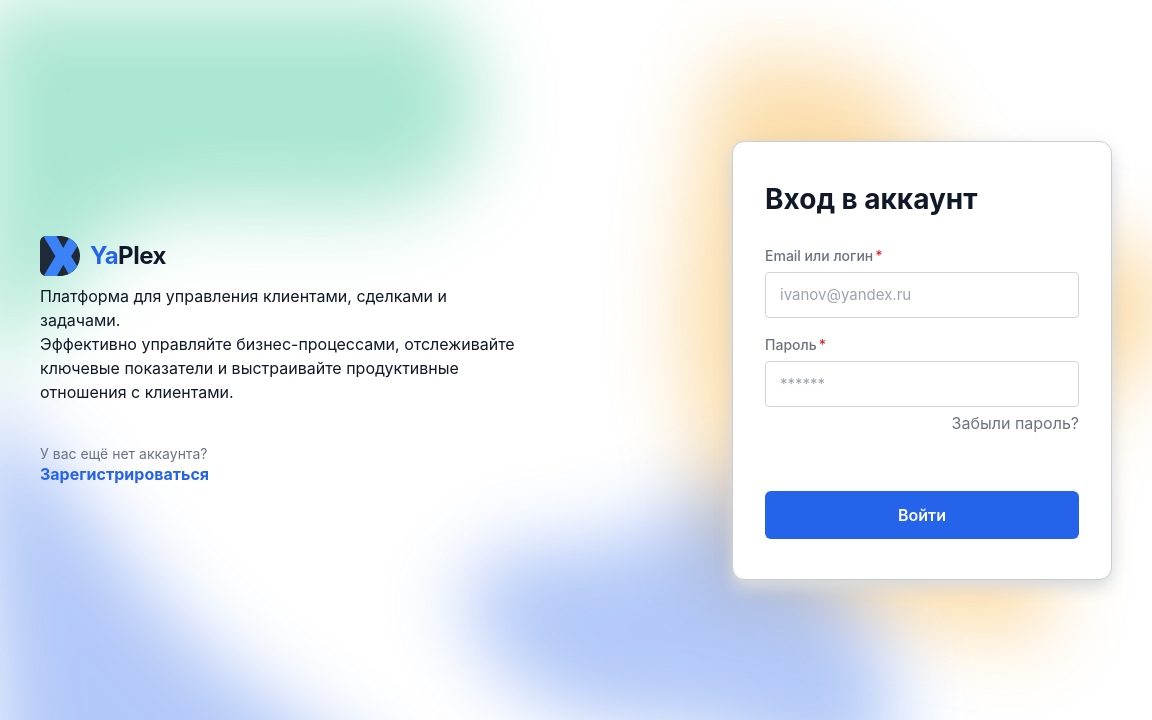
LoginPage integration › shows generic error when API returns no message
The width and height of the screenshot is (1152, 720).
Step 1. Type "test@test.com" into the field labelled "Email или логин*" → (922, 294), box left=765, top=272, right=1079, bottom=318
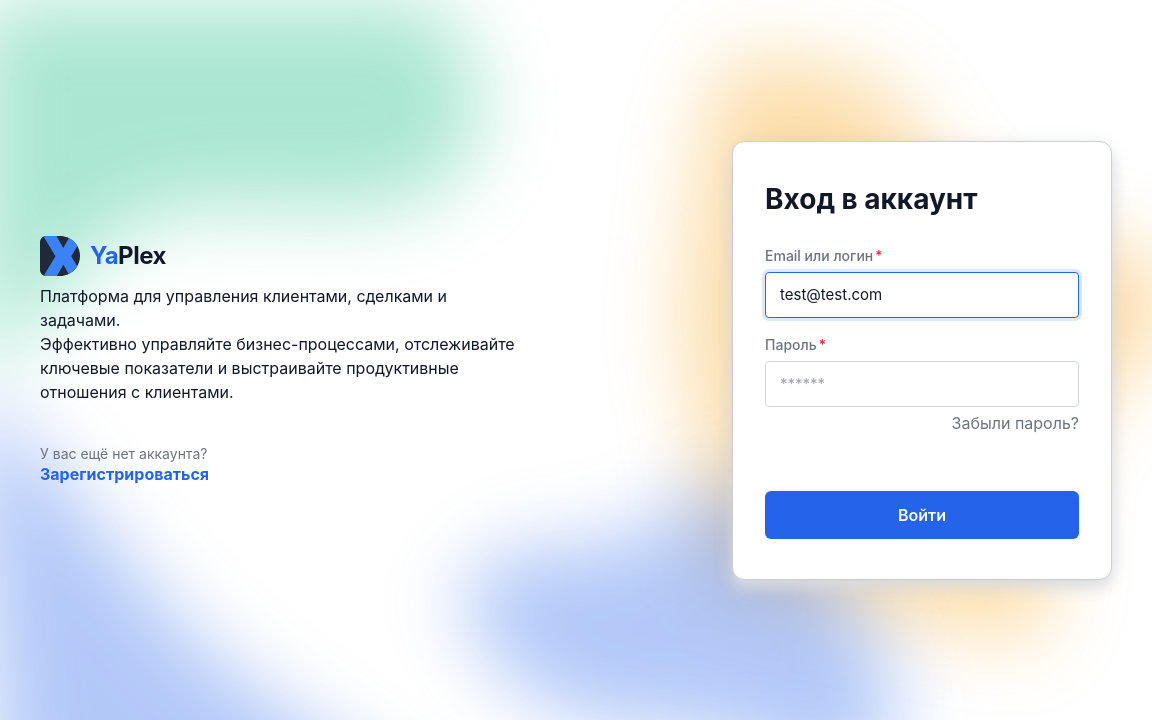
Step 2. Type "password" into the password field labelled "Пароль*" → (922, 384), box left=765, top=360, right=1079, bottom=406
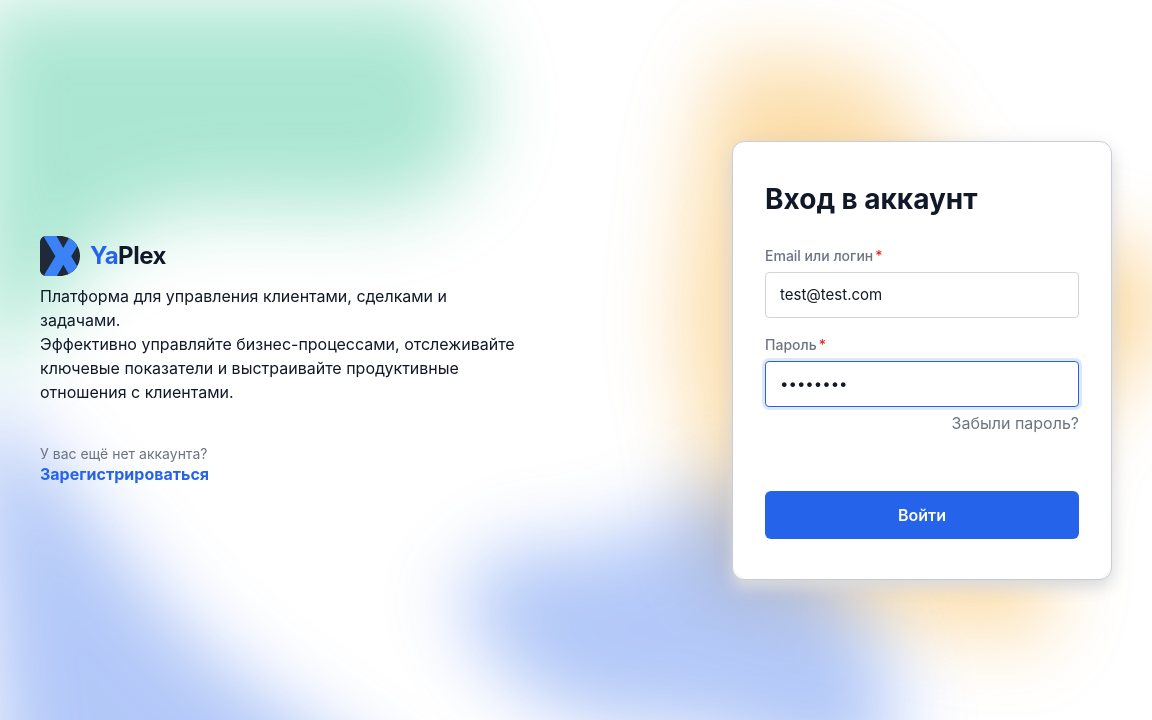
Step 3. Click the button "Войти" → (922, 514), box left=765, top=490, right=1079, bottom=538
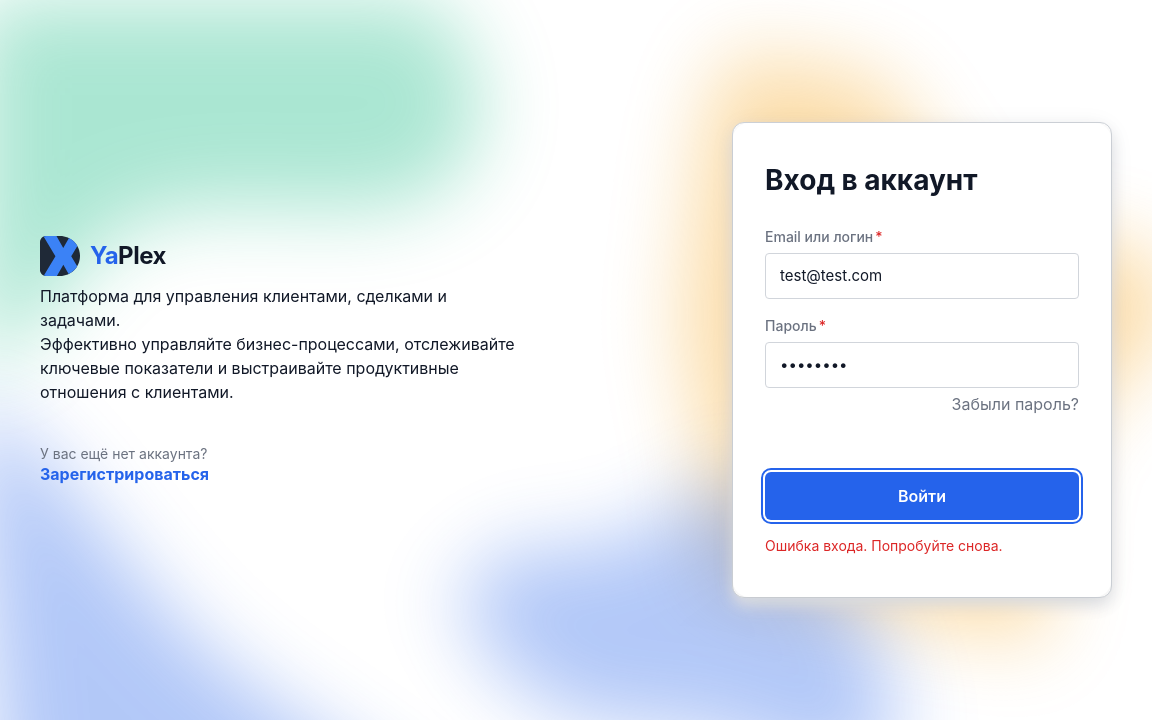
Expected: the message reads "Ошибка входа. Попробуйте снова.", left=765, top=537, right=1002, bottom=554
